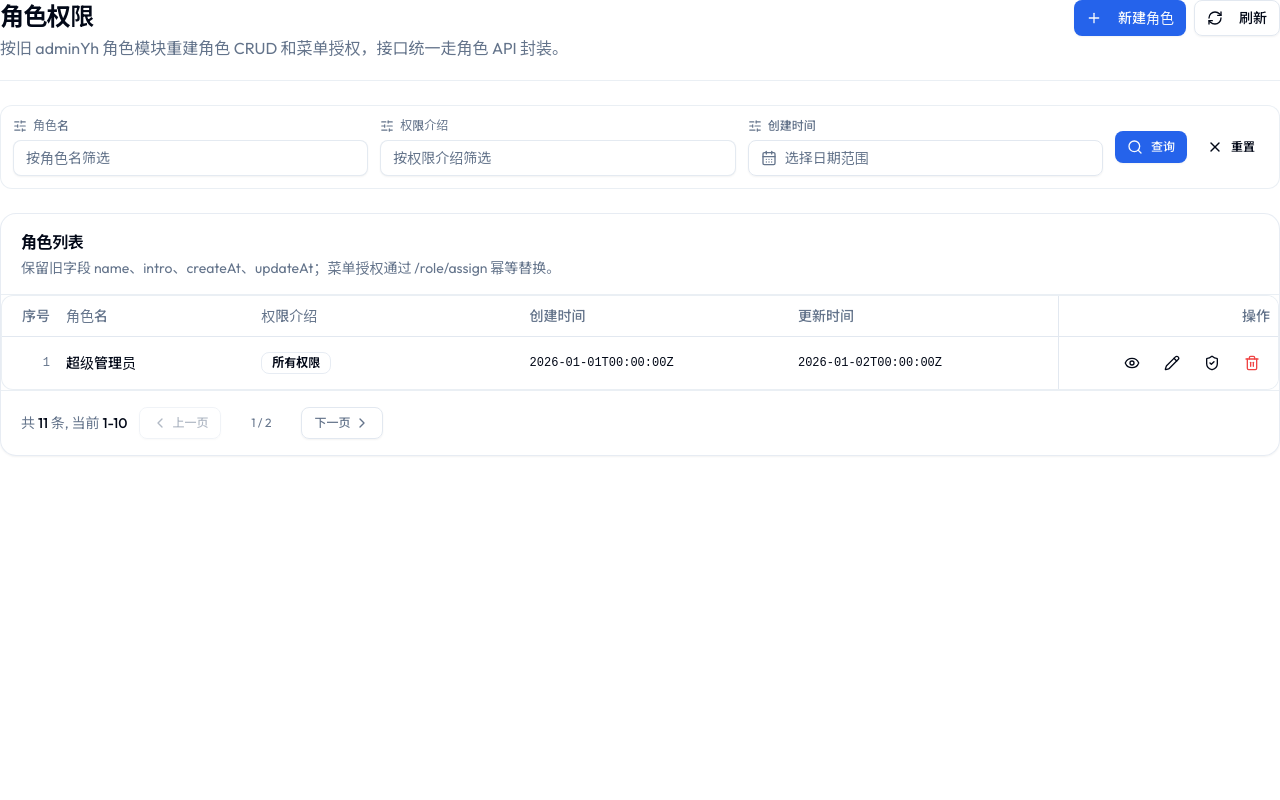
Test case: RolesList › loads detail for view and keeps the form readonly
Check: the text "超级管理员" is shown, box [58, 336, 253, 388]
What coordinates should you click on to do the following:
click the button named "查看角色"
I would click on:
 (1132, 362)
Its box is [1114, 344, 1150, 380].
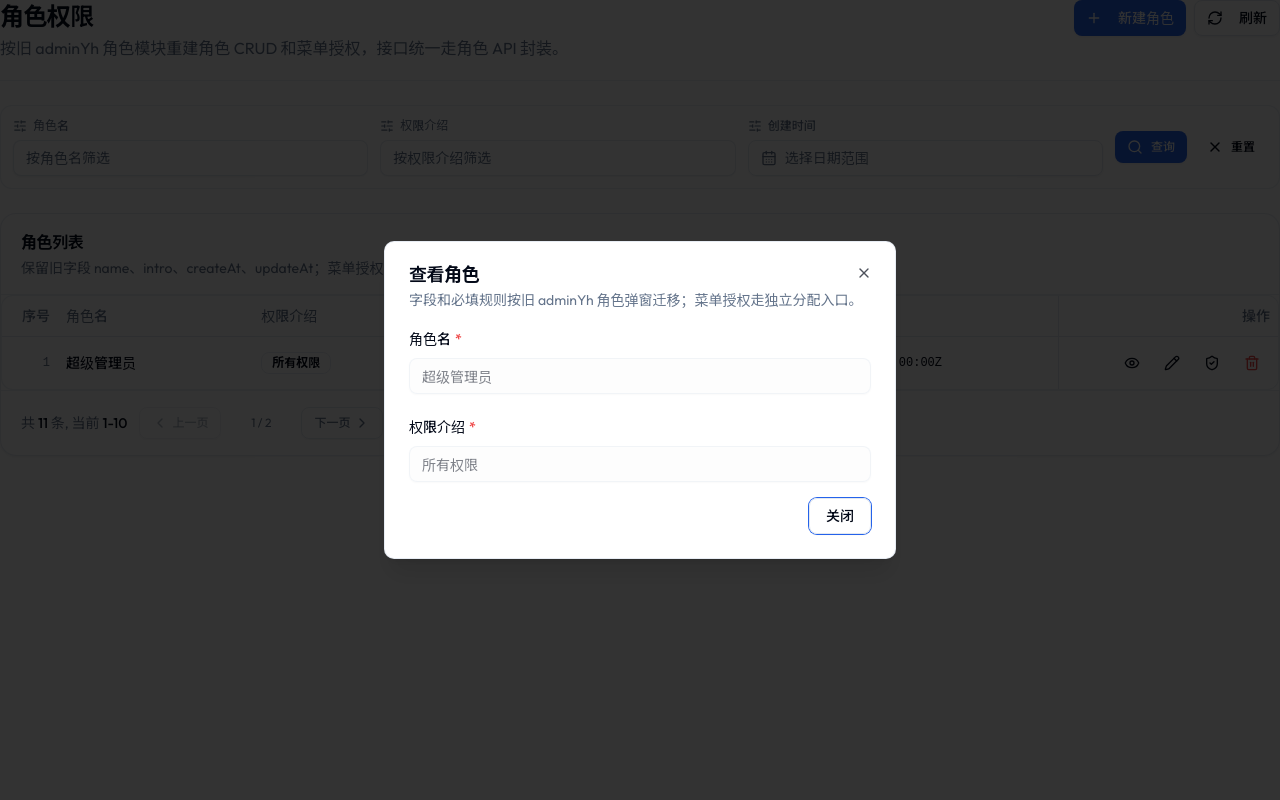
Check: the heading "查看角色" is shown, box [409, 263, 479, 286]
